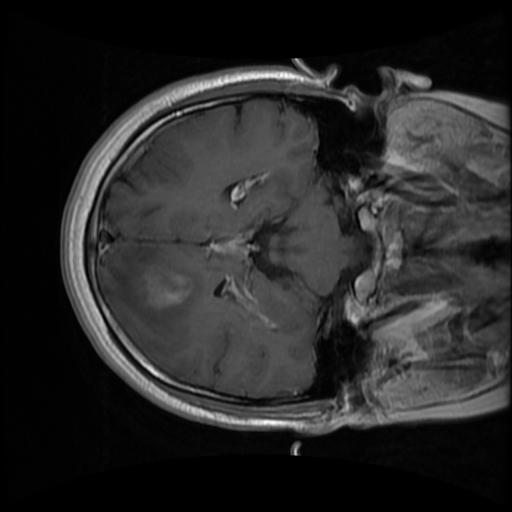glioma: (132, 262, 198, 313)
